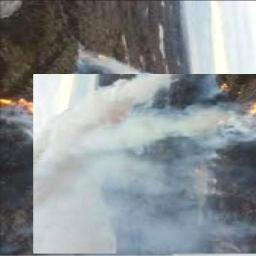Heavy smoke: (36, 75, 221, 256)
Small fire: (0, 95, 33, 114)
